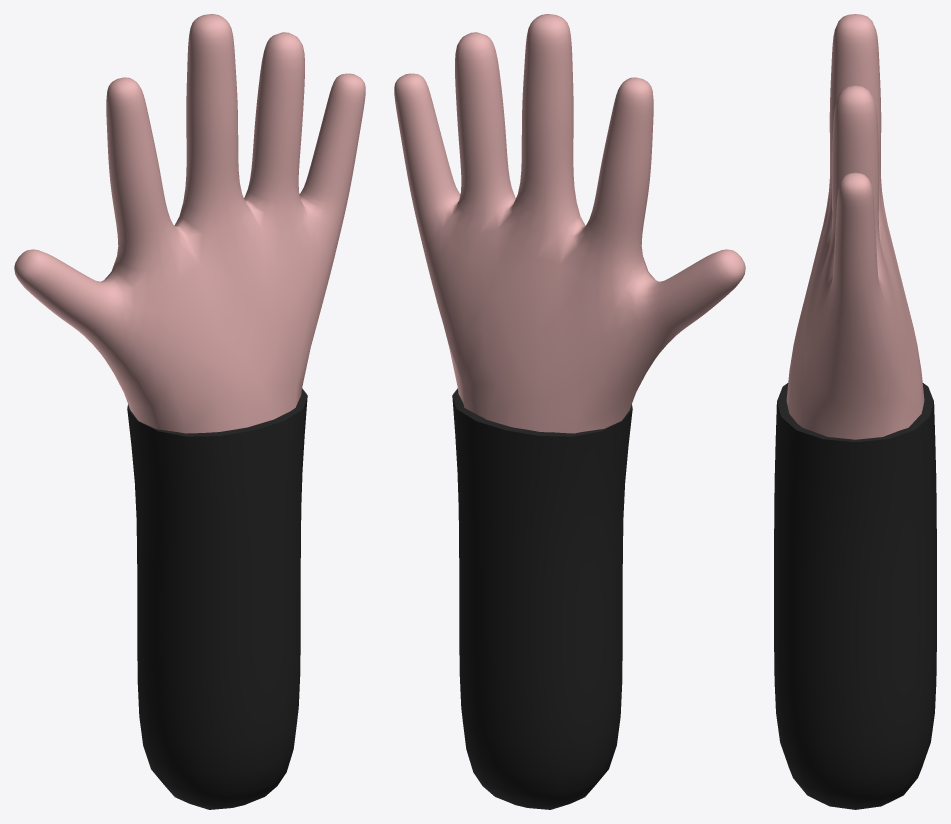
3 views of the same model, side by side, from view 1: azimuth 30°, elevation 25°; view 2: azimuth 150°, elevation 25°; view 3: azimuth 270°, elevation 25° (orthographic).
Parts seen in each view (by area): view 1: El_Kol, El_Kıyafet_Bileklik; view 2: El_Kol, El_Kıyafet_Bileklik; view 3: El_Kıyafet_Bileklik, El_Kol.
Part boxes in pixels (bbox=[...]): El_Kol: bbox=[14, 14, 365, 433]; El_Kıyafet_Bileklik: bbox=[127, 388, 307, 809]; El_Kol: bbox=[394, 14, 745, 433]; El_Kıyafet_Bileklik: bbox=[452, 388, 632, 809]; El_Kıyafet_Bileklik: bbox=[774, 383, 936, 809]; El_Kol: bbox=[786, 14, 924, 439].
Size of the model in its own units: 243 by 528 by 99.71.
